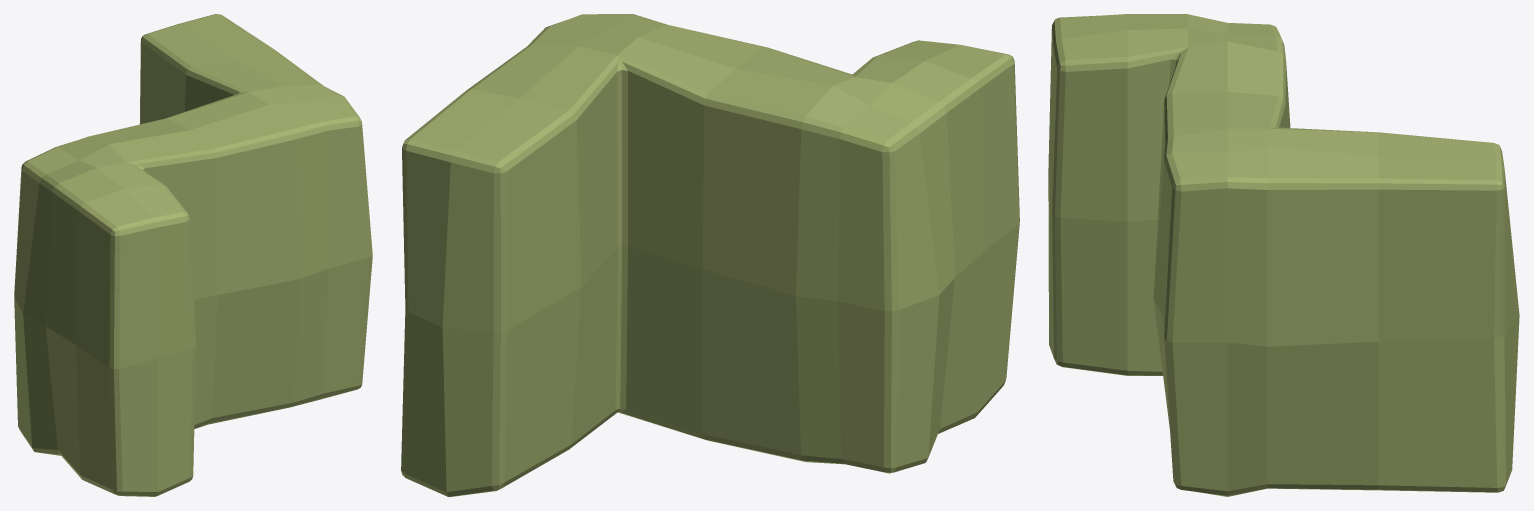
The model's file is Wall piece 4.fbx.
The picture shows the model from 3 angles, left to right: view 1: azimuth 30°, elevation 25°; view 2: azimuth 150°, elevation 25°; view 3: azimuth 270°, elevation 25°; orthographic projection. The views are drawn at different scales.
Visible parts, largest first — view 1: wall piece 4O; view 2: wall piece 4O; view 3: wall piece 4O.
Part boxes in pixels (bbox=[...]): wall piece 4O: bbox=[14, 14, 372, 496]; wall piece 4O: bbox=[401, 14, 1019, 496]; wall piece 4O: bbox=[1048, 14, 1519, 496].
Bounding box in the file's own units: 544 × 589 × 472.
